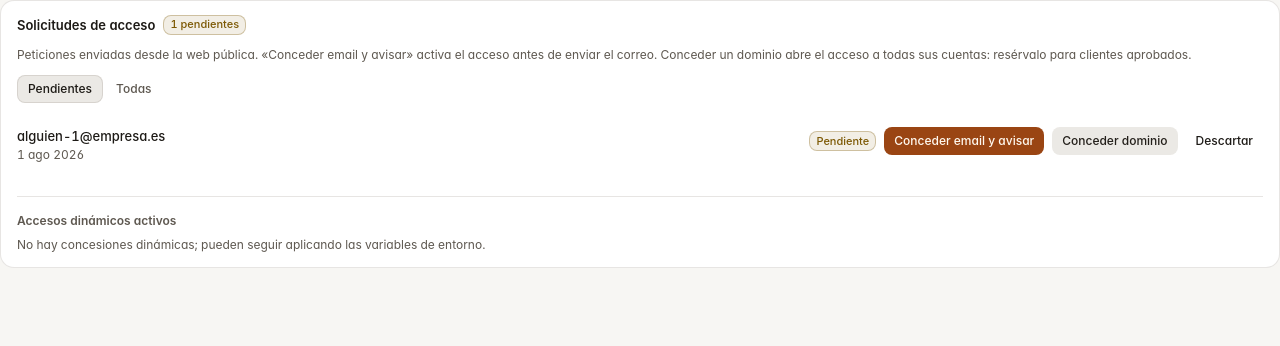
Test: SolicitudesAccesoCard › el histórico es otra consulta, y sólo se pide si se abre
This screenshot has width=1280, height=346.
Check: the text "alguien-1@empresa.es" is shown, box [17,127,165,145]
Click the button "Todas" at x=134, y=89, box [105,75,163,103]
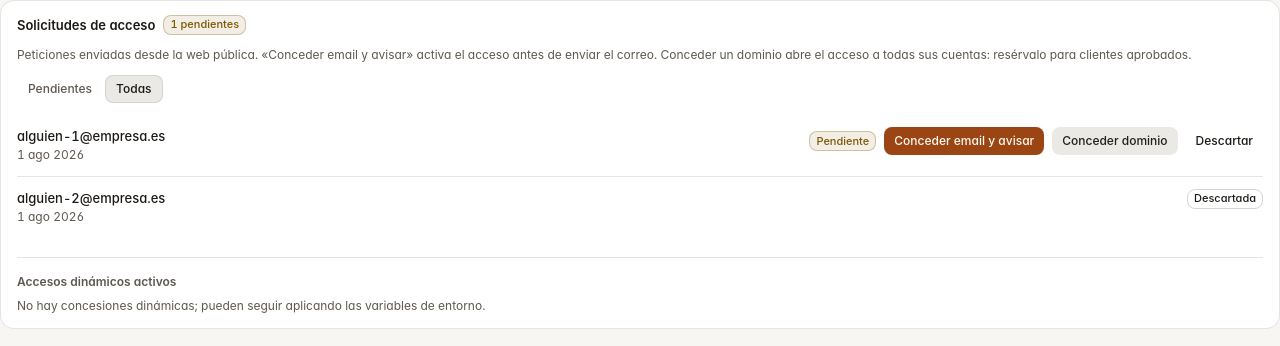
Check: the text "alguien-2@empresa.es" is shown, box [17,189,165,207]
